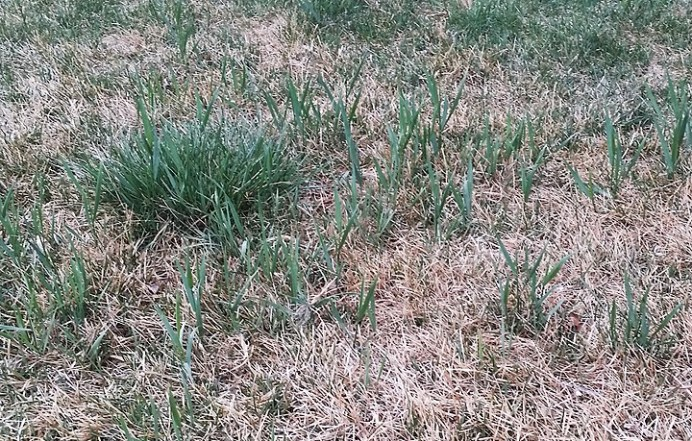crabgrass: (75, 103, 297, 243)
